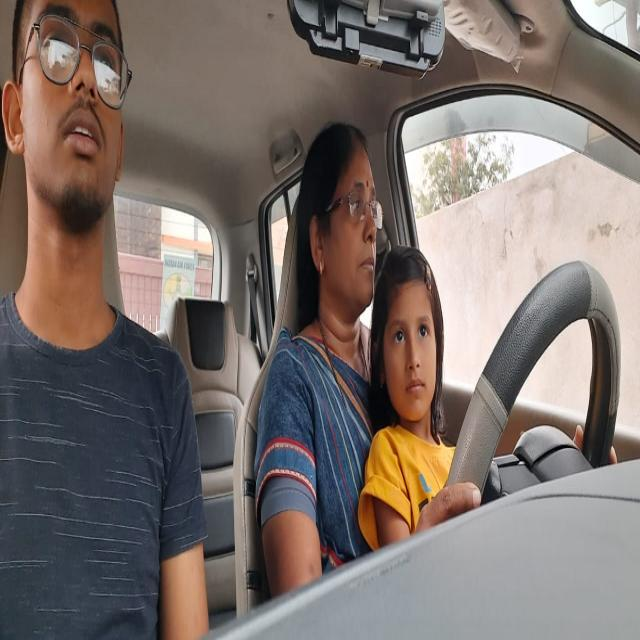child: (373, 259, 445, 428)
person: (2, 0, 132, 205), (305, 109, 374, 305)
